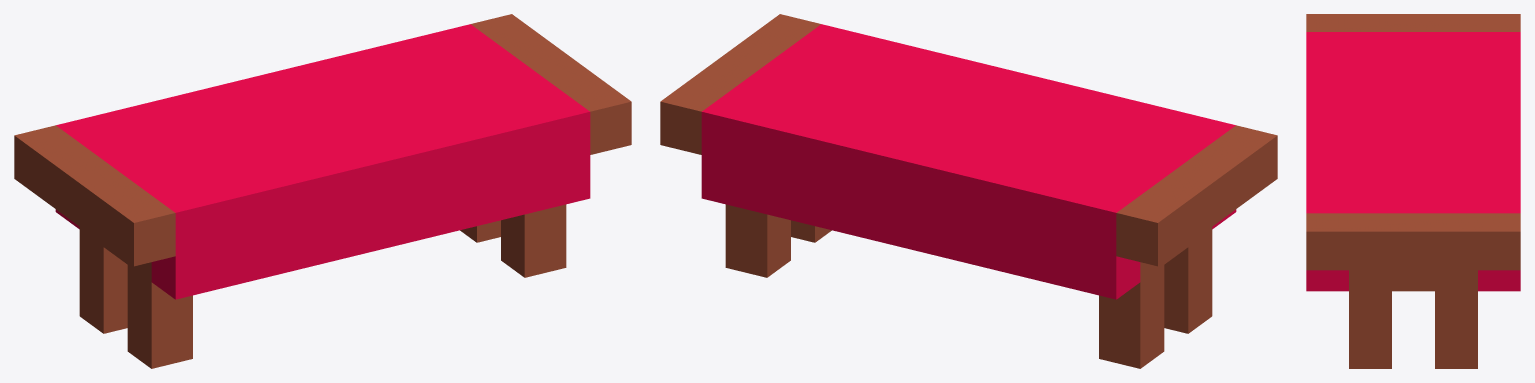
File: large_bench_a_red.obj
3 renders of one model, left to right at view 1: azimuth 30°, elevation 25°; view 2: azimuth 150°, elevation 25°; view 3: azimuth 270°, elevation 25°, orthographic. The views are drawn at different scales.
Size of the model in its own units: 1.2 by 0.4 by 0.5.
1 material, 1 textured.
